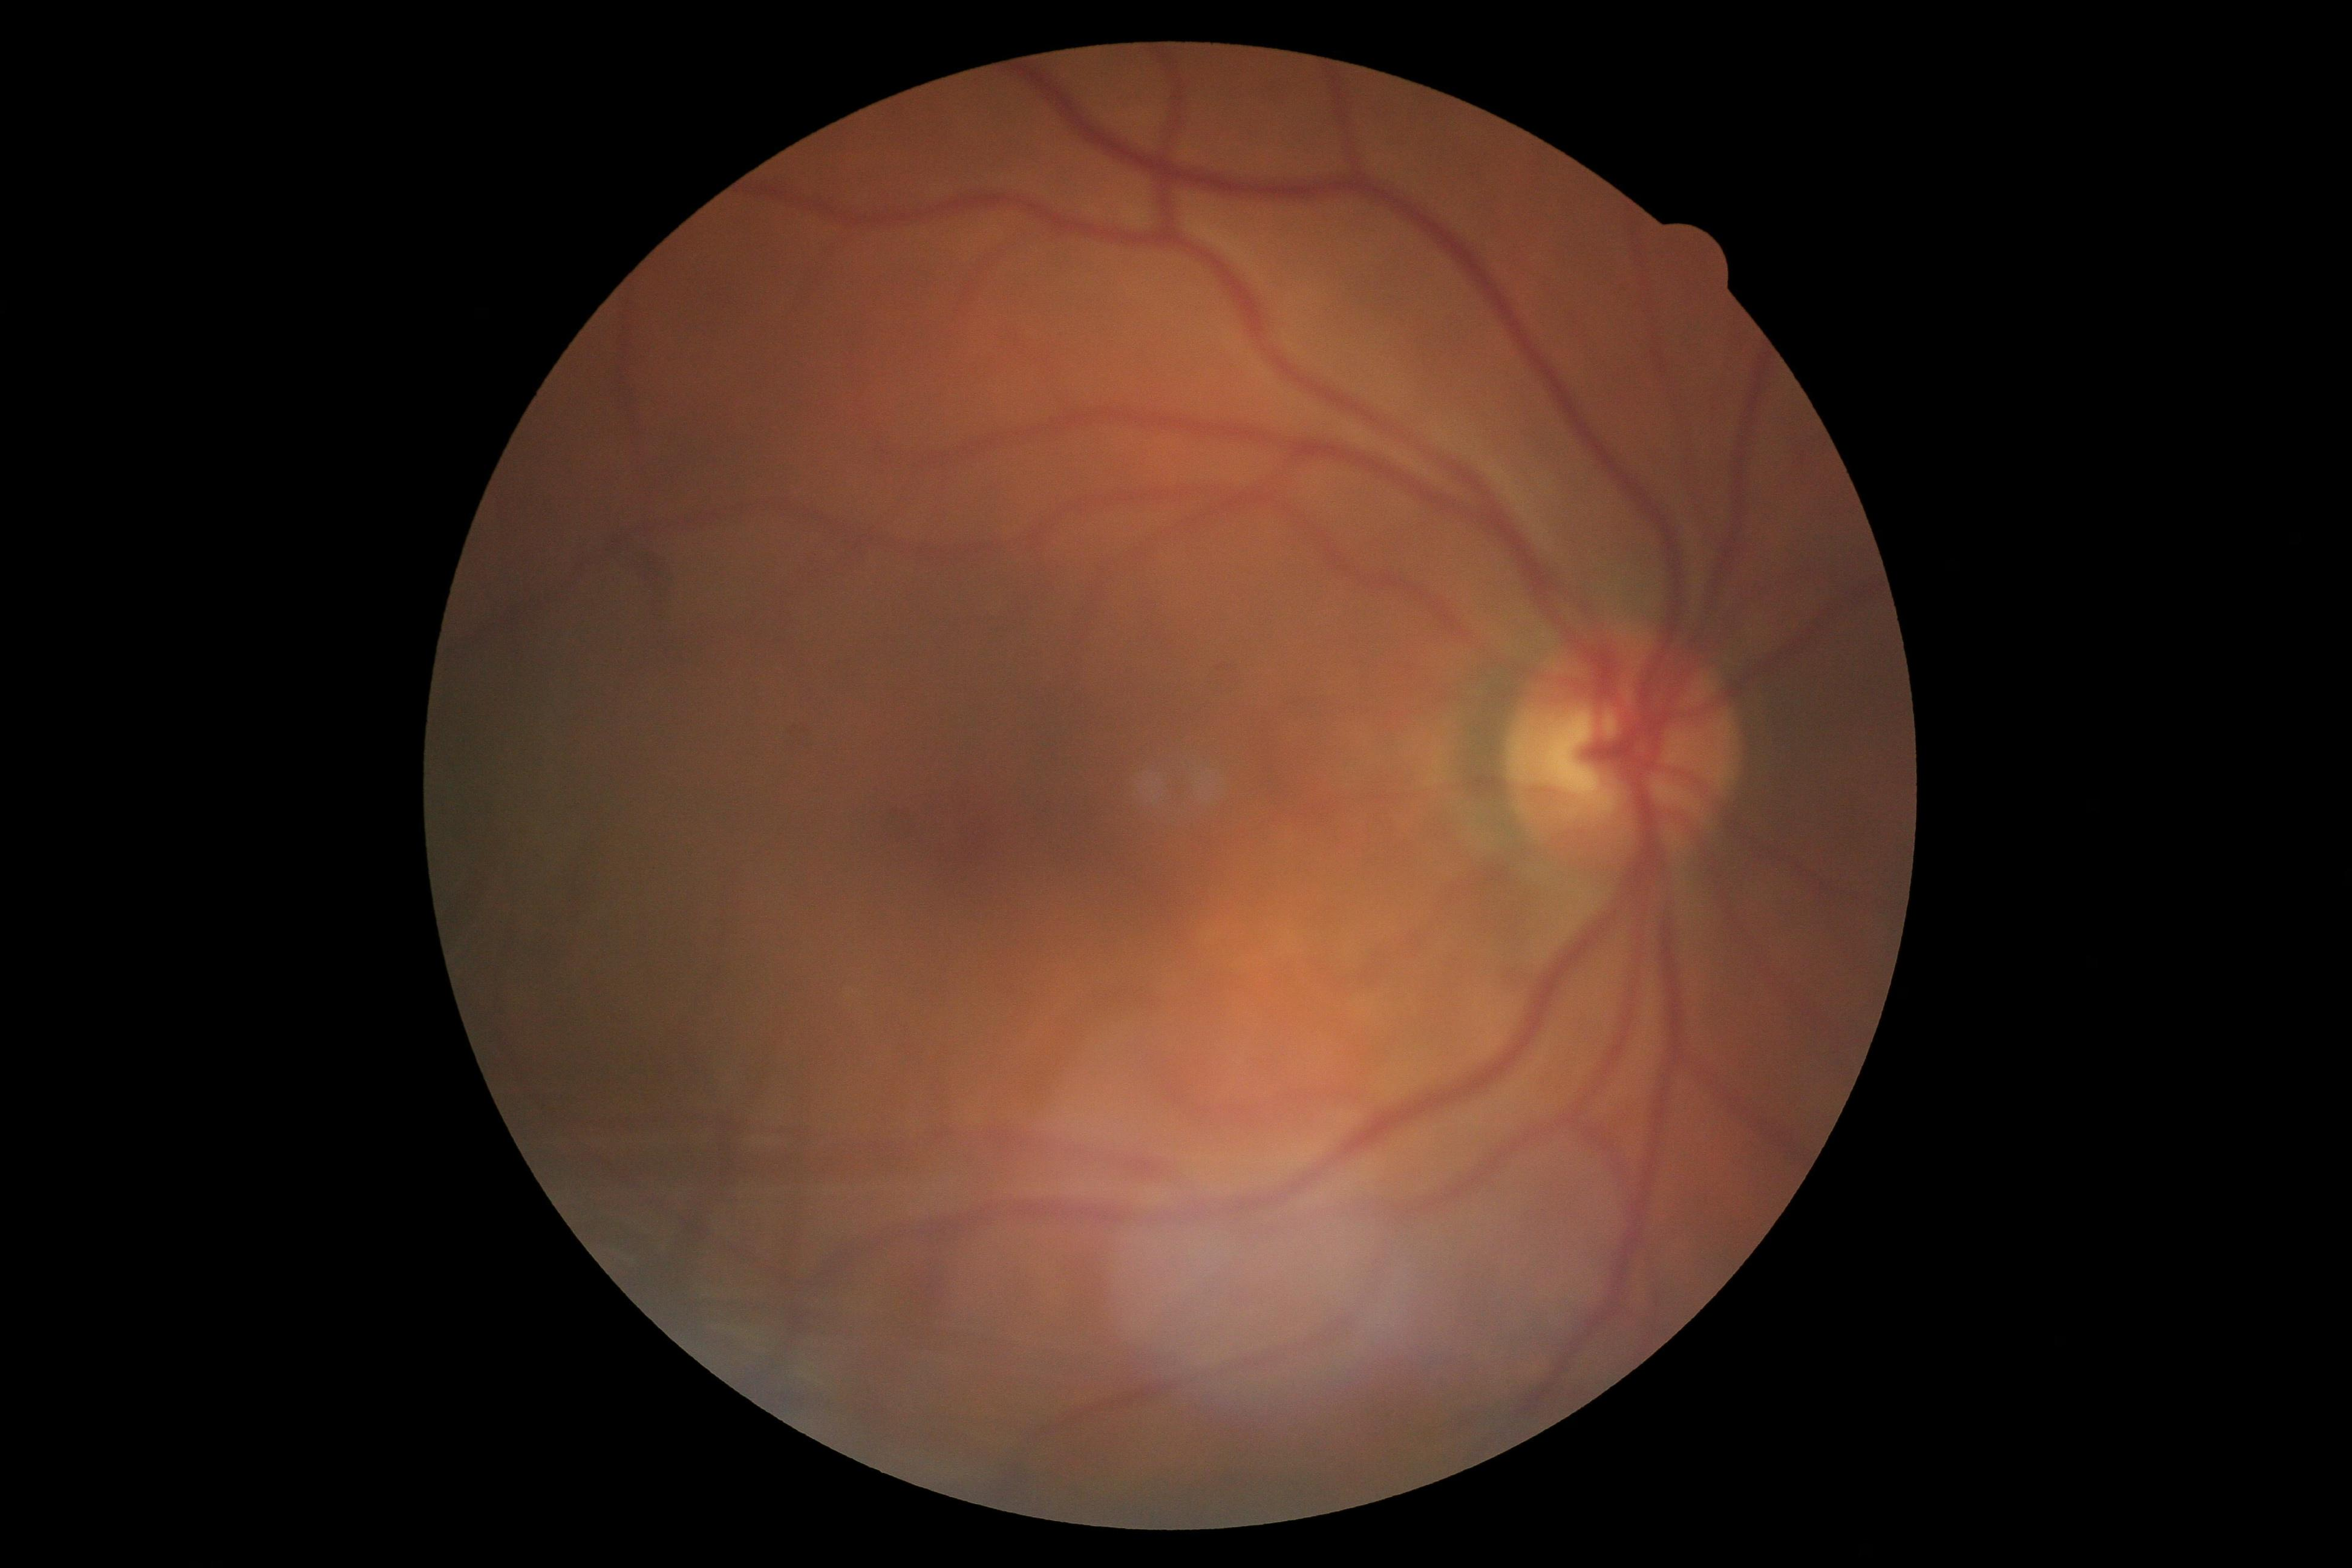Optic-nerve: (1508, 611, 1743, 877)
macula: (859, 749, 1095, 938)
notch: (1640, 214, 1739, 303)
